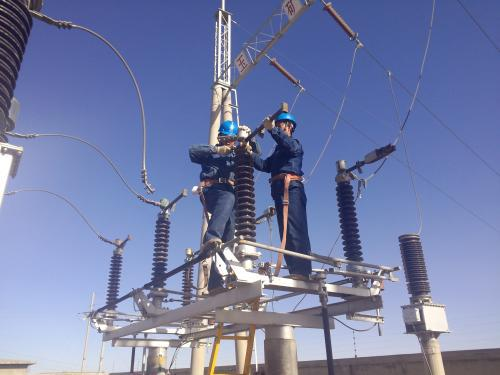helmet: (273, 110, 300, 140), (215, 119, 242, 148)
